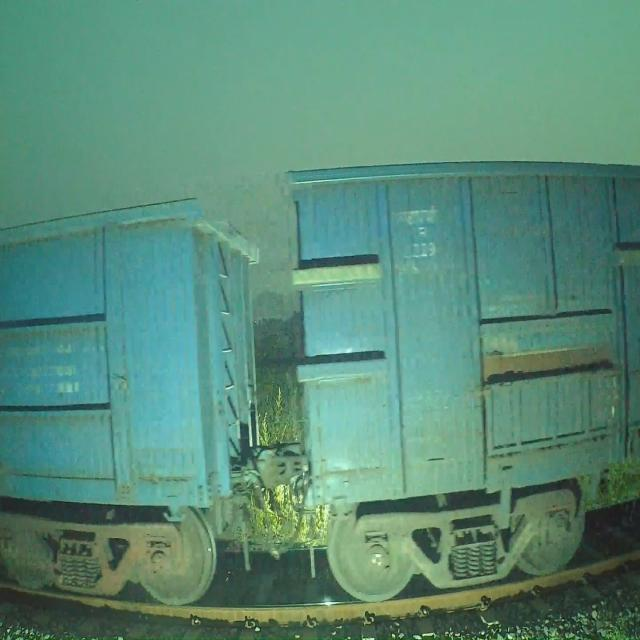WAgon-uic: (283, 159, 640, 603), (0, 194, 264, 606)
